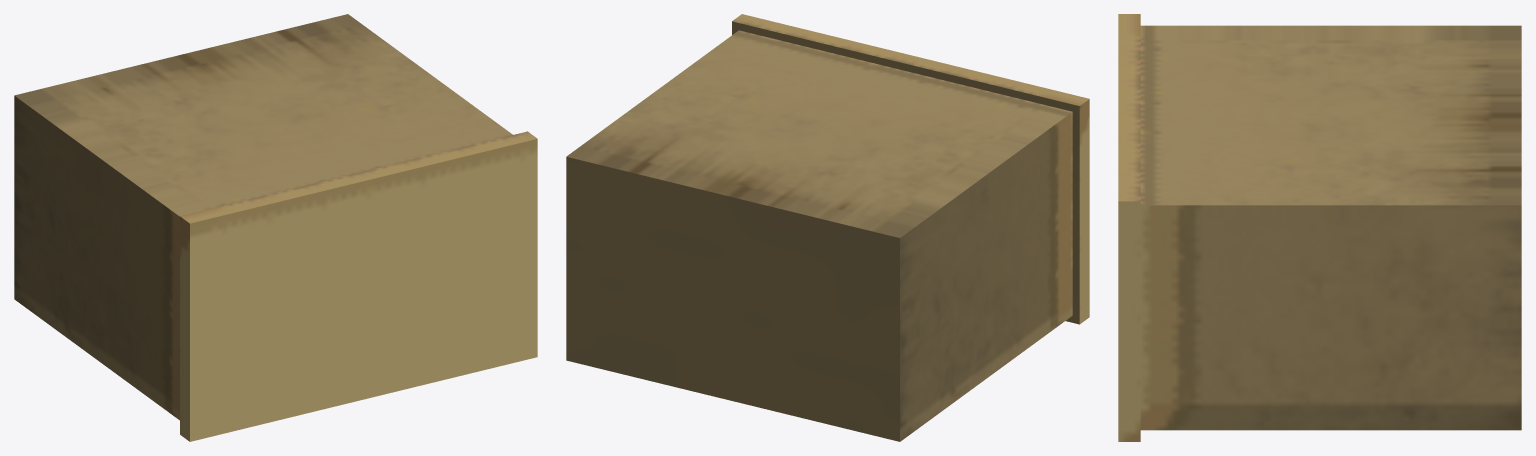
Rendered from pz_g020_location_shop_generic_01_generic_shop_counter.obj.
3 views of the same model, side by side, from view 1: azimuth 30°, elevation 25°; view 2: azimuth 150°, elevation 25°; view 3: azimuth 270°, elevation 25° (orthographic). The views are drawn at different scales.
Visible parts, largest first — view 1: counter_top_top, counter_body_front, counter_body_right, counter_top_front, counter_top_right; view 2: counter_body_bottom, counter_body_front, counter_body_right, counter_top_bottom, counter_top_front, counter_top_right; view 3: counter_body_left, counter_body_front, counter_top_left, counter_top_front.
Boxes of the visible parts, x1,y1,x2,y2 form: counter_top_top: (190, 139, 537, 441); counter_body_front: (14, 14, 512, 216); counter_body_right: (14, 96, 179, 420); counter_top_front: (180, 131, 537, 223); counter_top_right: (180, 216, 189, 441); counter_body_bottom: (566, 157, 899, 441); counter_body_front: (566, 30, 1072, 237); counter_body_right: (900, 112, 1072, 441); counter_top_bottom: (732, 21, 1079, 324); counter_top_front: (732, 14, 1089, 105); counter_top_right: (1079, 99, 1089, 324); counter_body_left: (1140, 205, 1521, 430); counter_body_front: (1140, 25, 1521, 205); counter_top_left: (1118, 201, 1140, 441); counter_top_front: (1118, 14, 1140, 201).
Size of the model in its own units: 1 by 0.6 by 0.91.
1 material, 1 textured.
